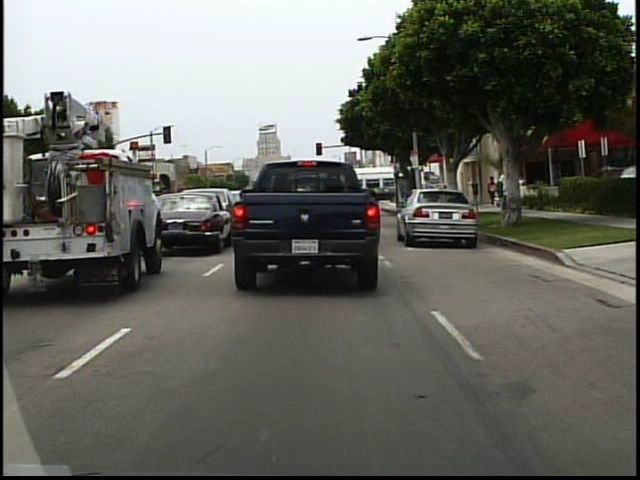person: (486, 177, 499, 208)
